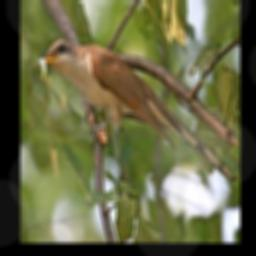Cuckoo: (33, 37, 237, 182)
